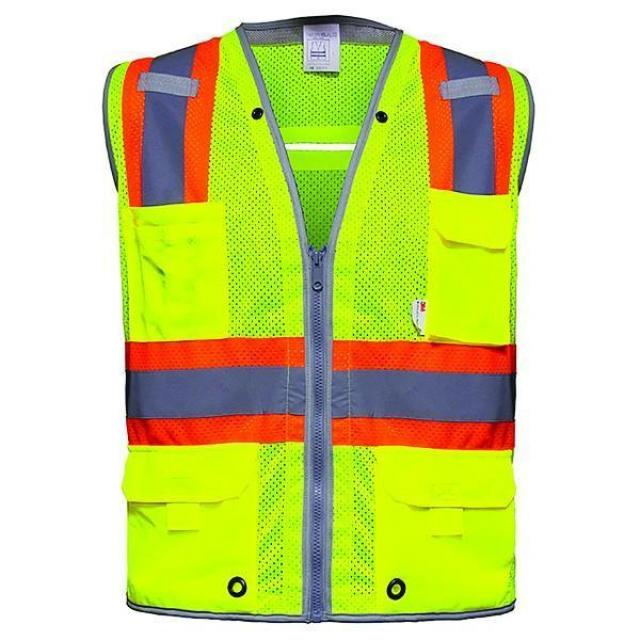vest: (102, 20, 536, 620)
